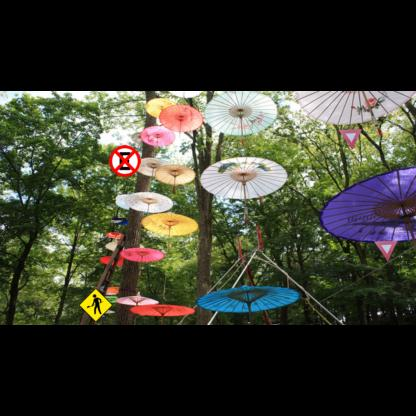A-24: (79, 288, 113, 322)
R-6c: (109, 145, 141, 177)
